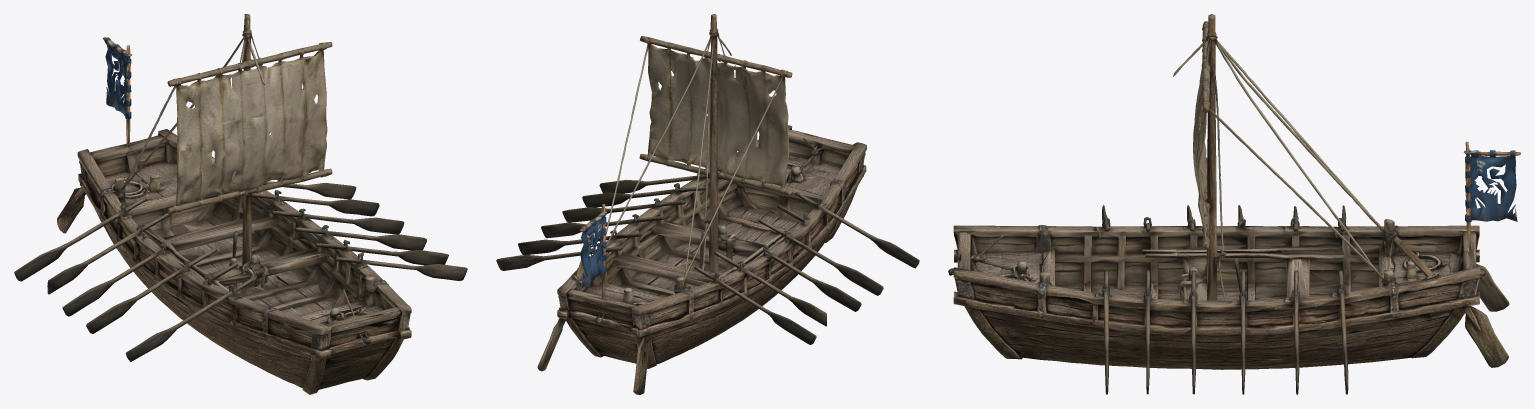
File: hyeopseon.glb
3 views of the same model, side by side, from view 1: azimuth 30°, elevation 25°; view 2: azimuth 150°, elevation 25°; view 3: azimuth 270°, elevation 25° (orthographic). The views are drawn at different scales.
Visible parts, largest first — view 1: tripo_node_e2dd134a-16b5-422e-bf98-9b0521ddb406; view 2: tripo_node_e2dd134a-16b5-422e-bf98-9b0521ddb406; view 3: tripo_node_e2dd134a-16b5-422e-bf98-9b0521ddb406.
Part boxes in pixels (bbox=[...]): tripo_node_e2dd134a-16b5-422e-bf98-9b0521ddb406: bbox=[14, 14, 467, 394]; tripo_node_e2dd134a-16b5-422e-bf98-9b0521ddb406: bbox=[496, 14, 919, 394]; tripo_node_e2dd134a-16b5-422e-bf98-9b0521ddb406: bbox=[948, 14, 1520, 394].
Size of the model in its own units: 0.734 by 0.6215 by 0.9812.
1 material, 1 textured.
